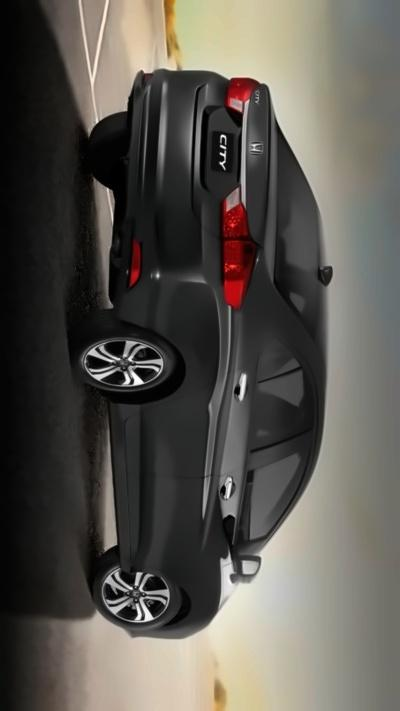Car boot: (195, 69, 287, 250)
Driver-s door - -F-R-: (61, 437, 346, 557)
Fender - -F-R-: (117, 548, 248, 645)
Fender - -R-R-: (85, 280, 339, 410)
Passenger-s door - -R-R-: (76, 343, 344, 461)
Rear bumper: (96, 52, 211, 337)
Side bumper - -R-: (80, 389, 157, 577)
Side mirror - -R-: (218, 527, 263, 587)
